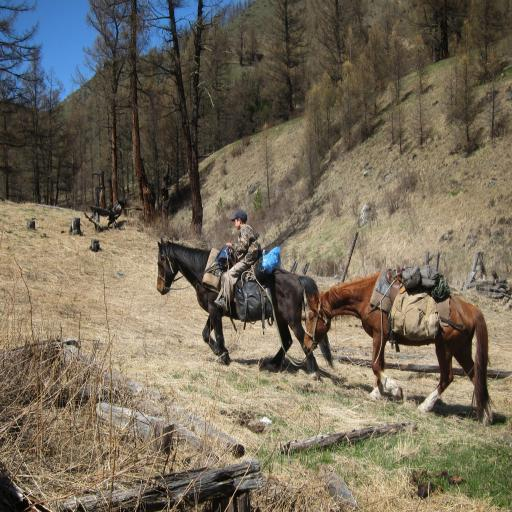horse: (302, 269, 497, 426), (156, 236, 334, 382)
